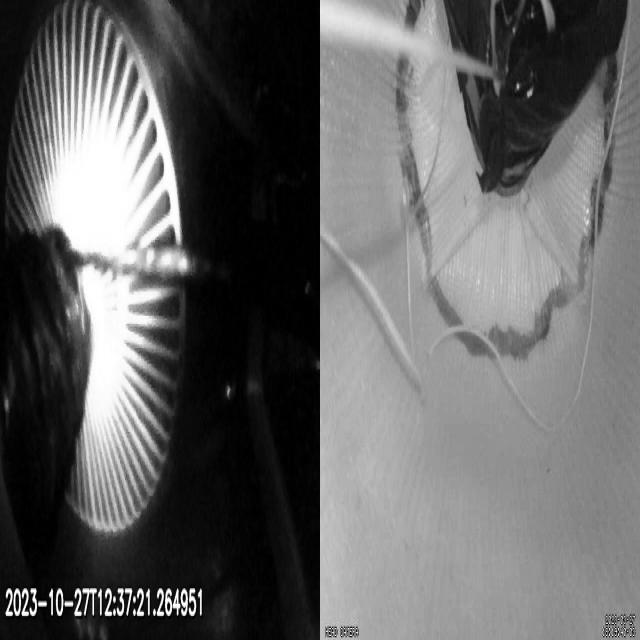red-circle: (395, 0, 617, 360)
